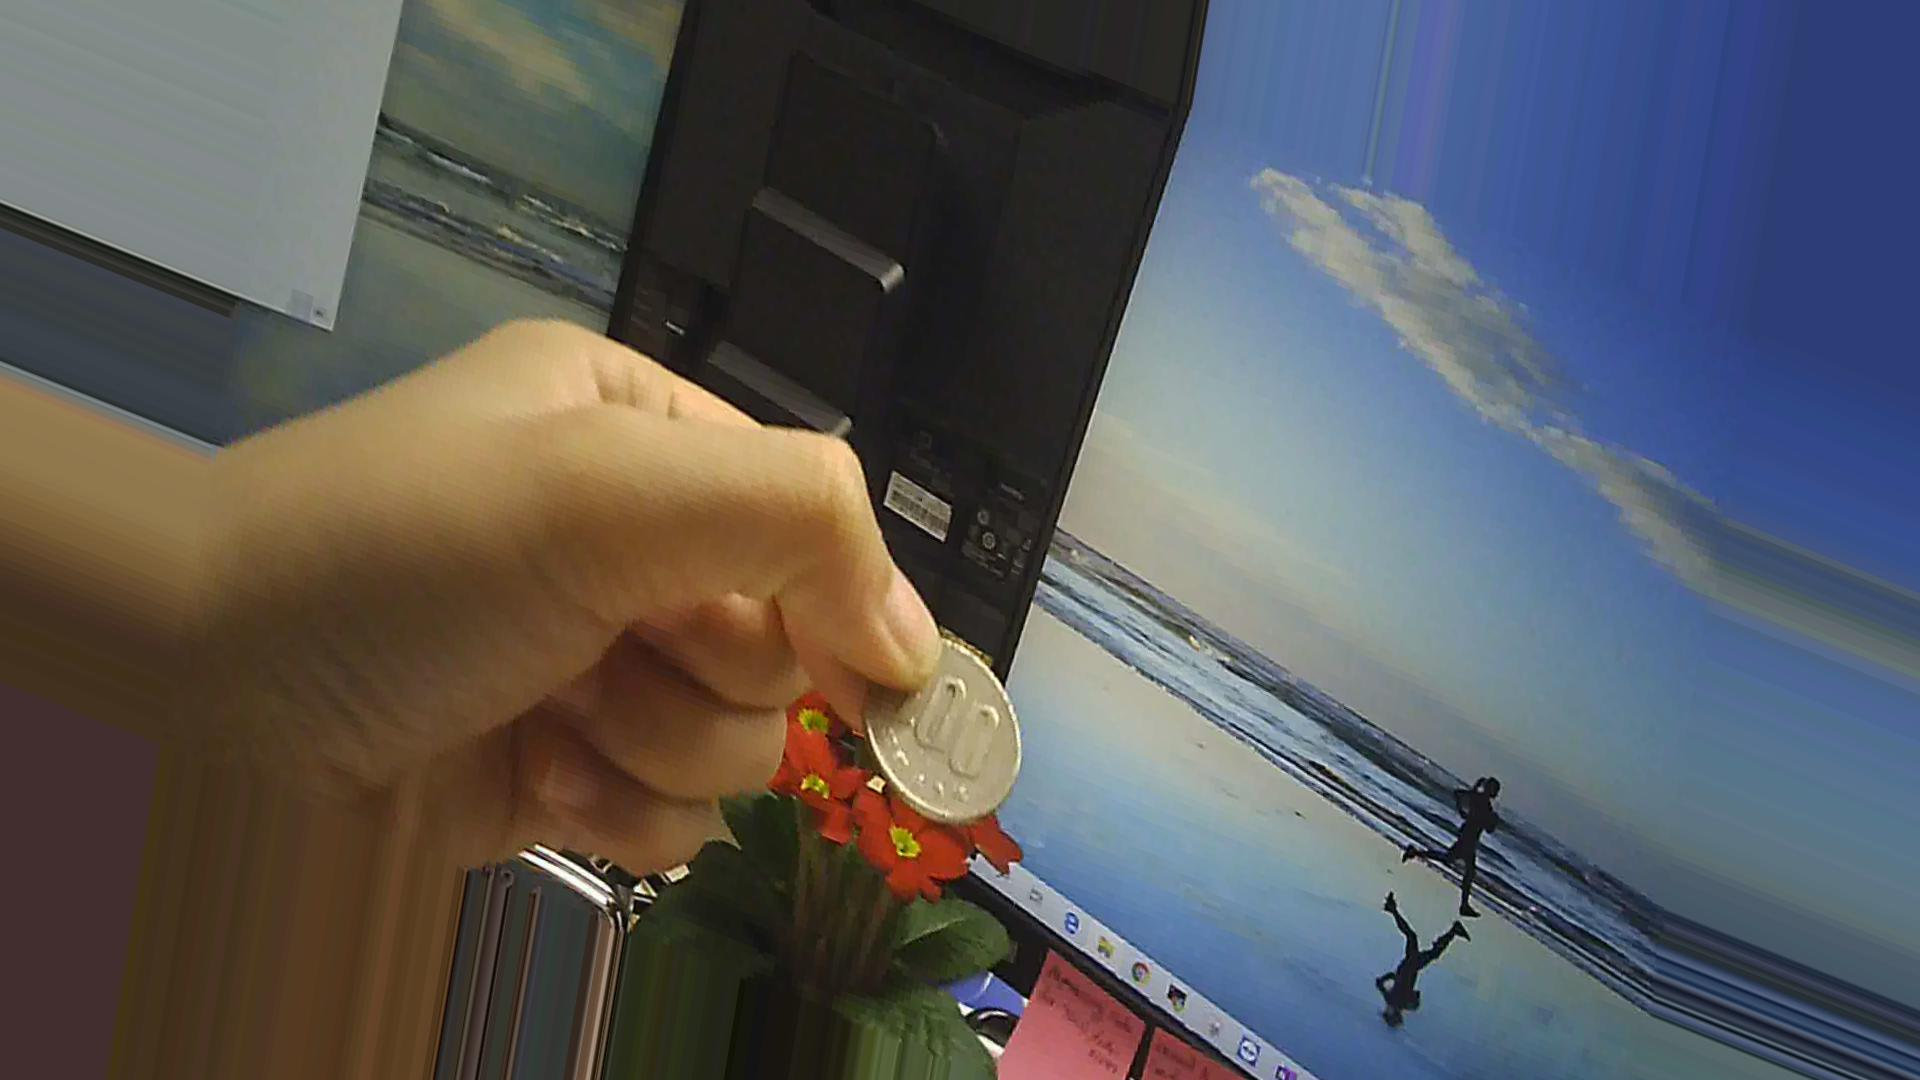100 Yen: (856, 624, 1025, 833)
